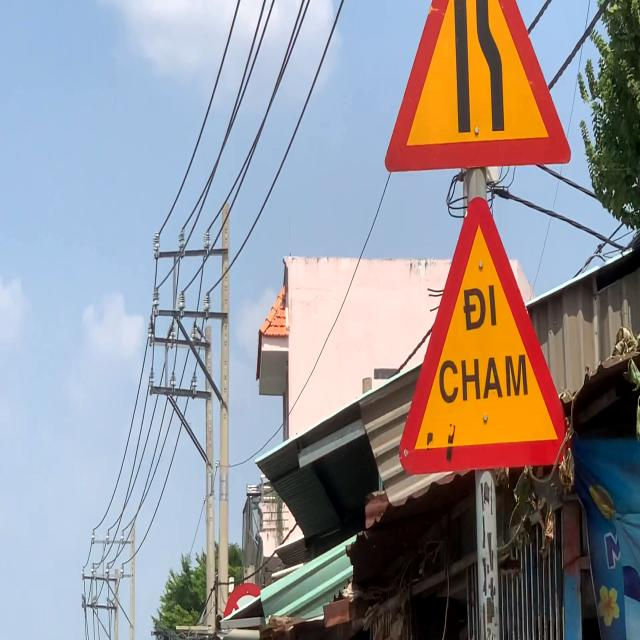W.245a: (388, 187, 580, 493)
